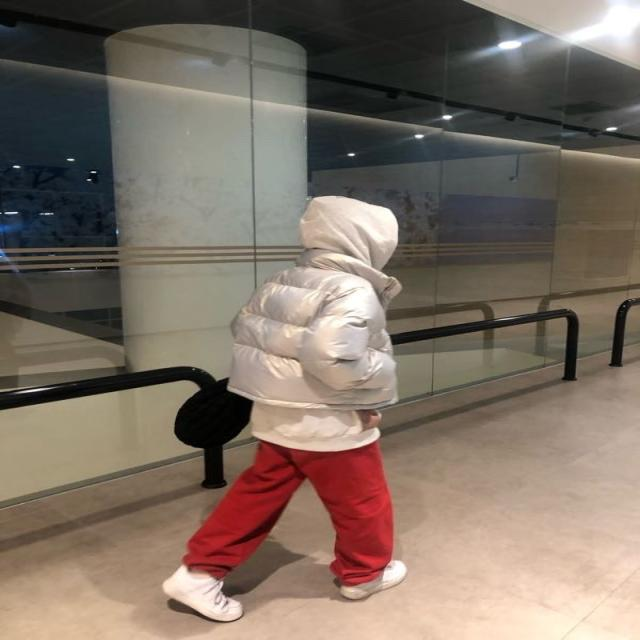padding: (225, 247, 407, 414)
trainingpants: (184, 429, 396, 590)
